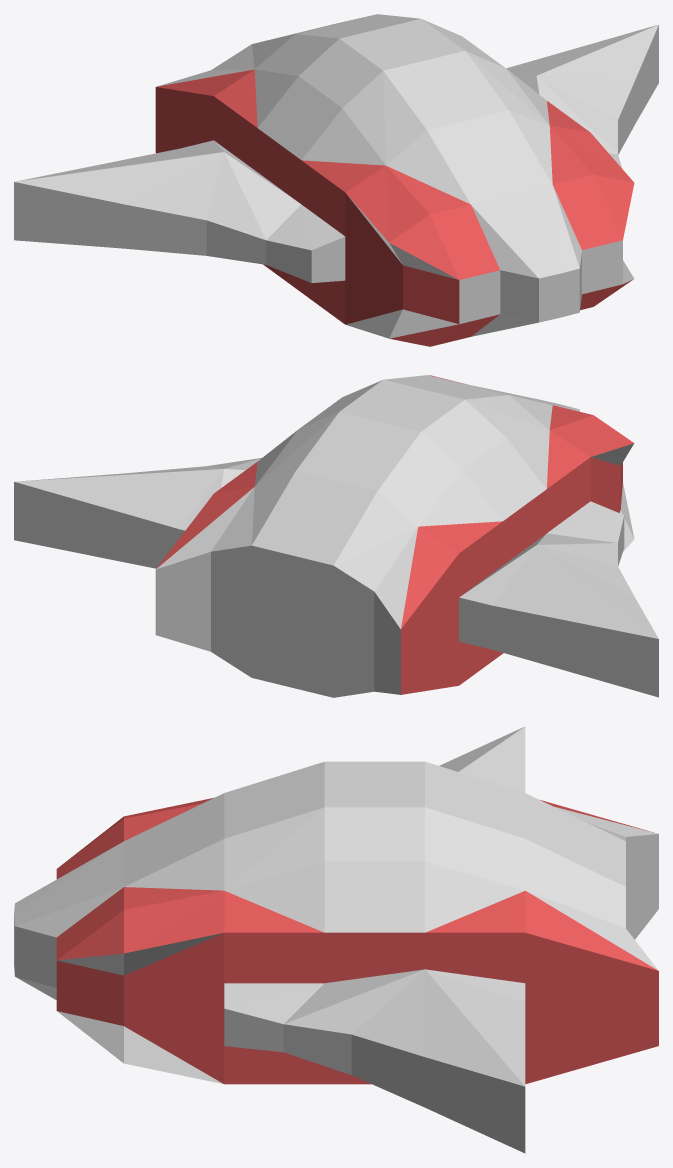
Rendered from Human_mothership.glb.
The picture shows the model from 3 angles, top to bottom: view 1: azimuth 30°, elevation 25°; view 2: azimuth 150°, elevation 25°; view 3: azimuth 270°, elevation 25°; orthographic projection. The views are drawn at different scales.
Parts seen in each view (by area): view 1: Cube; view 2: Cube; view 3: Cube.
Part boxes in pixels (x1=…): Cube: x1=14, y1=14, x2=658, y2=346; Cube: x1=14, y1=375, x2=658, y2=697; Cube: x1=14, y1=726, x2=658, y2=1153.
Bounding box in the file's own units: 14.34 × 4.29 × 10.84.
